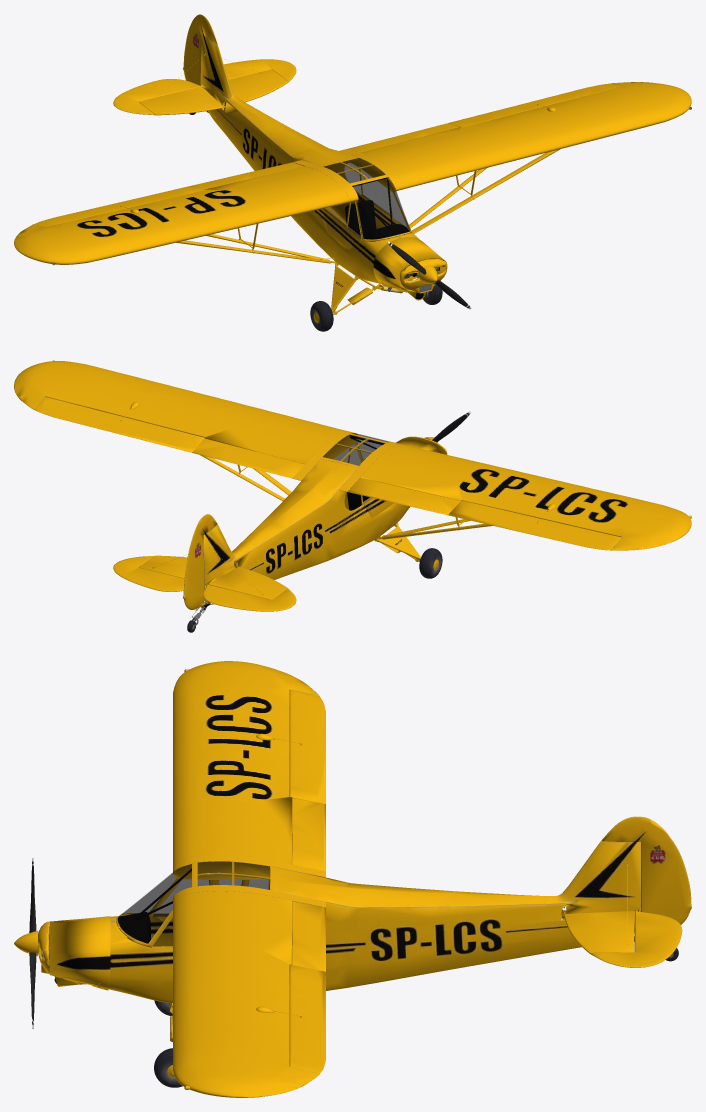
File: ulla.glb
The picture shows the model from 3 angles, top to bottom: view 1: azimuth 30°, elevation 25°; view 2: azimuth 150°, elevation 25°; view 3: azimuth 270°, elevation 25°; orthographic projection. The views are drawn at different scales.
Parts seen in each view (by area): view 1: fuselage_wings, fuselage01, windshield01, horizontal_stab01, elevator01, fuselage02, windshield02, aileron_L01, aileron_R01, rudder01, wing_support_L01, fuselage_wings02 (+7 smaller); view 2: fuselage_wings, fuselage01, aileron_L01, aileron_R01, elevator01, horizontal_stab01, flap_L01, flap_R01, rudder01, fuselage_wings02, windshield01, wing_support_R01 (+5 smaller); view 3: fuselage_wings, fuselage01, rudder01, fuselage02, windshield01, aileron_R01, aileron_L01, elevator01, horizontal_stab01, flap_R01, flap_L01, fuselage_wings02 (+3 smaller).
Part boxes in pixels (x1,y1,x2,y2): fuselage_wings: [14, 82, 691, 264]; fuselage01: [200, 34, 419, 283]; windshield01: [324, 158, 410, 239]; horizontal_stab01: [139, 69, 288, 115]; elevator01: [113, 59, 296, 115]; fuselage02: [373, 237, 447, 291]; windshield02: [326, 163, 406, 235]; aileron_L01: [448, 83, 621, 127]; aileron_R01: [34, 185, 204, 226]; rudder01: [183, 14, 217, 85]; wing_support_L01: [408, 149, 560, 233]; fuselage_wings02: [293, 148, 404, 202]; fuselage_wings: [14, 361, 691, 550]; fuselage01: [203, 433, 409, 603]; aileron_L01: [34, 396, 204, 452]; aileron_R01: [448, 500, 621, 550]; elevator01: [113, 556, 296, 611]; horizontal_stab01: [138, 555, 287, 599]; flap_L01: [192, 438, 304, 478]; flap_R01: [348, 478, 460, 515]; rudder01: [183, 514, 217, 609]; fuselage_wings02: [292, 430, 399, 491]; windshield01: [323, 433, 389, 465]; wing_support_R01: [382, 519, 492, 539]; fuselage_wings: [173, 661, 325, 1097]; fuselage01: [108, 841, 640, 1003]; rudder01: [601, 816, 691, 924]; fuselage02: [38, 916, 110, 987]; windshield01: [117, 861, 269, 943]; aileron_R01: [289, 689, 325, 804]; aileron_L01: [289, 965, 325, 1073]; elevator01: [590, 910, 682, 967]; horizontal_stab01: [563, 905, 634, 953]; flap_R01: [292, 798, 325, 871]; flap_L01: [292, 901, 325, 971]; fuselage_wings02: [173, 855, 325, 907].
Size of the model in its own units: 10 by 2.51 by 6.59.
7 materials, 3 textured.
